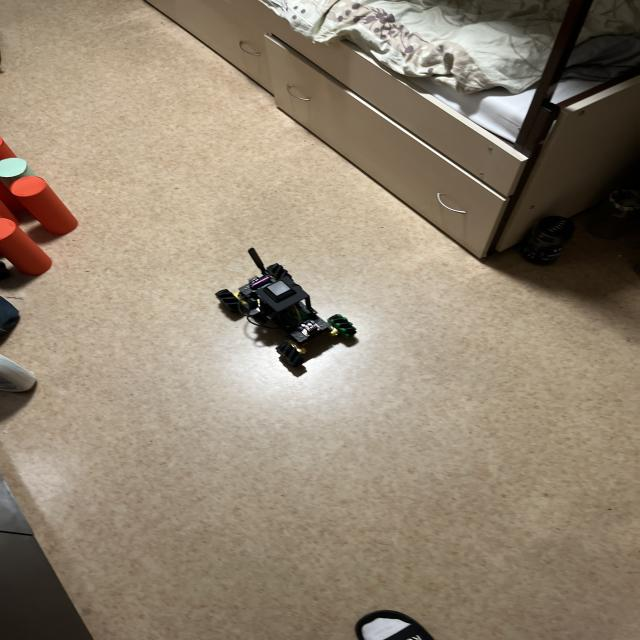robot: (216, 248, 356, 367)
